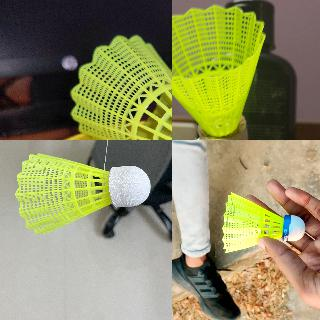shuttlecock: (172, 5, 265, 139), (16, 153, 150, 235), (69, 34, 171, 139), (222, 192, 304, 252)
